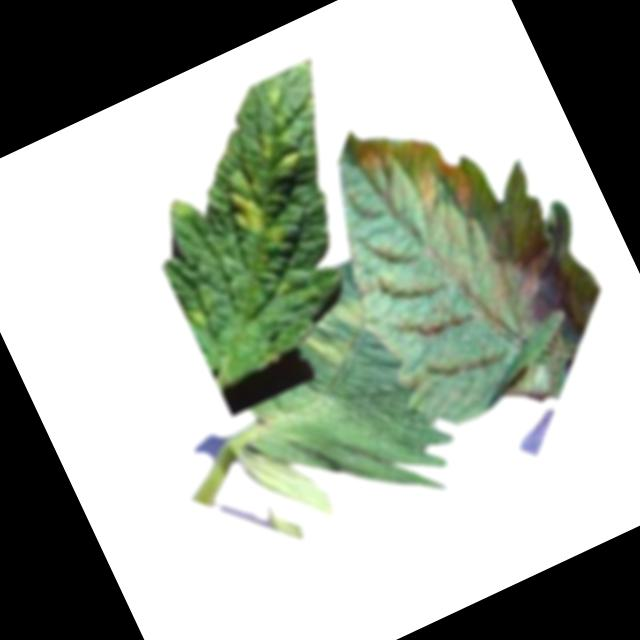Leaf_Mold: (346, 98, 491, 251), (216, 165, 294, 260), (296, 291, 384, 374), (246, 115, 308, 185)
